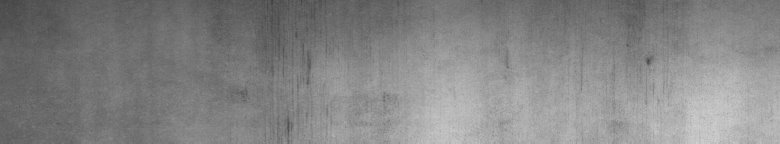ka: (232, 28, 312, 136)
